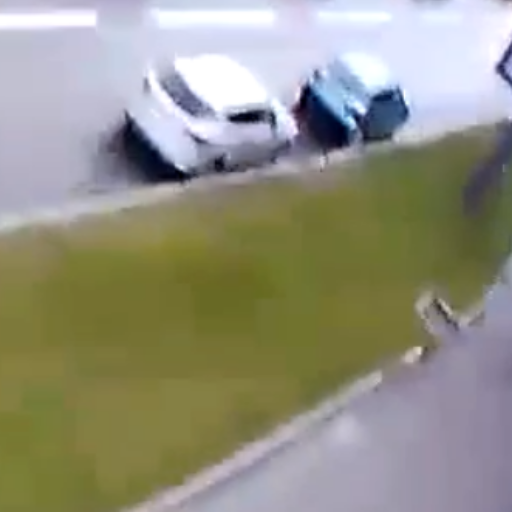Car: (124, 54, 289, 175), (296, 52, 409, 144)
